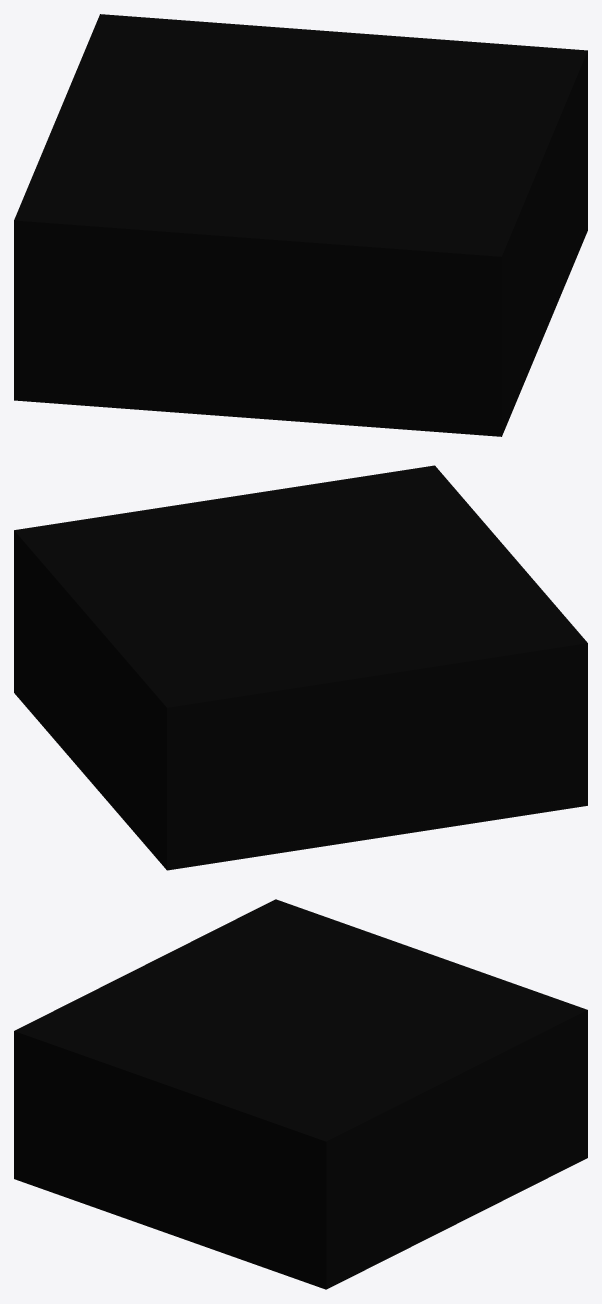
3 views of the same model, one above another, from view 1: azimuth 30°, elevation 25°; view 2: azimuth 150°, elevation 25°; view 3: azimuth 270°, elevation 25° (orthographic). The views are drawn at different scales.
Visible parts, largest first — view 1: Joint_0_Object_1, Joint_0_Object_0; view 2: Joint_0_Object_1, Joint_0_Object_0; view 3: Joint_0_Object_1, Joint_0_Object_0.
Part boxes in pixels (x1,y1,x2,y2): Joint_0_Object_1: (14, 14, 587, 435); Joint_0_Object_0: (14, 220, 501, 436); Joint_0_Object_1: (14, 465, 587, 870); Joint_0_Object_0: (14, 530, 166, 869); Joint_0_Object_1: (14, 899, 587, 1289); Joint_0_Object_0: (326, 1010, 587, 1289).
Size of the model in its own units: 528 by 150 by 528.
Materials: 2 (2 with a texture image).
